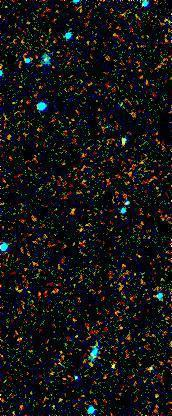star: (95, 352, 125, 382)
